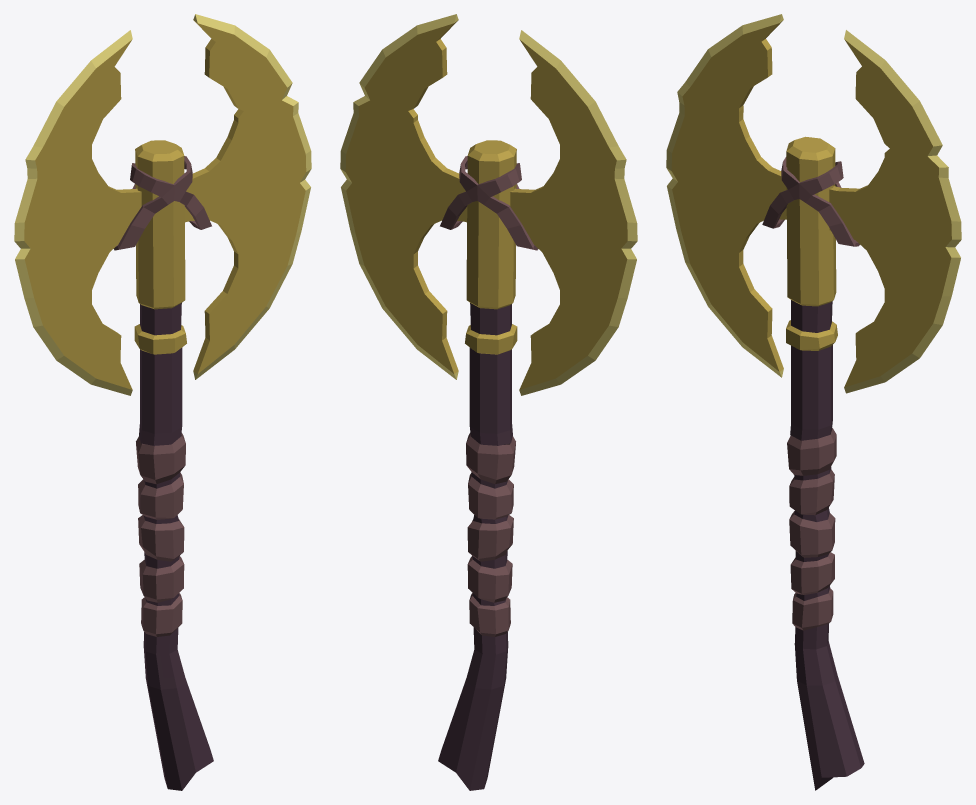
File: axe_double_golden.glb
3 views of the same model, side by side, from view 1: azimuth 30°, elevation 25°; view 2: azimuth 150°, elevation 25°; view 3: azimuth 330°, elevation 25° (orthographic).
Visible parts, largest first — view 1: Axe_Double_Golden; view 2: Axe_Double_Golden; view 3: Axe_Double_Golden.
Part boxes in pixels (<box>): Axe_Double_Golden: <box>14,14,311,790</box>; Axe_Double_Golden: <box>340,14,637,790</box>; Axe_Double_Golden: <box>666,14,961,790</box>.
Size of the model in its own units: 0.8712 by 2.15 by 0.1355.
